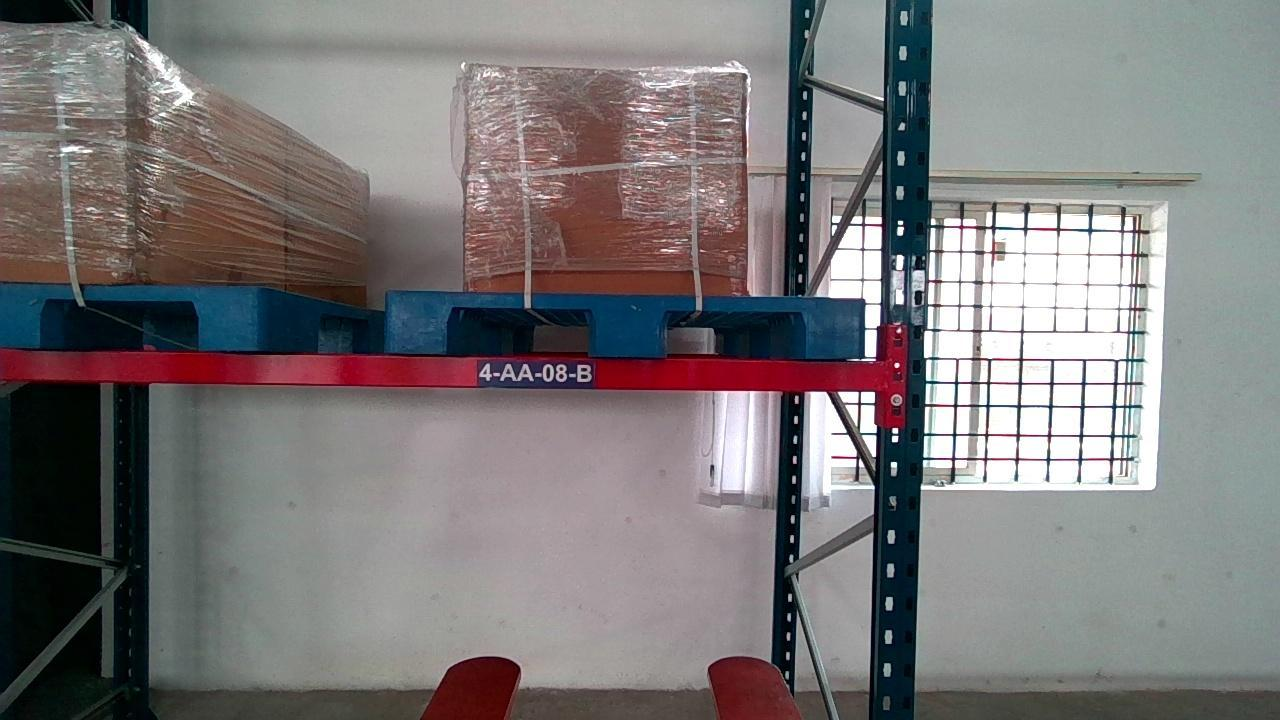h_rack: (3, 351, 890, 391)
small_pallet: (383, 293, 871, 352), (0, 288, 262, 348)
